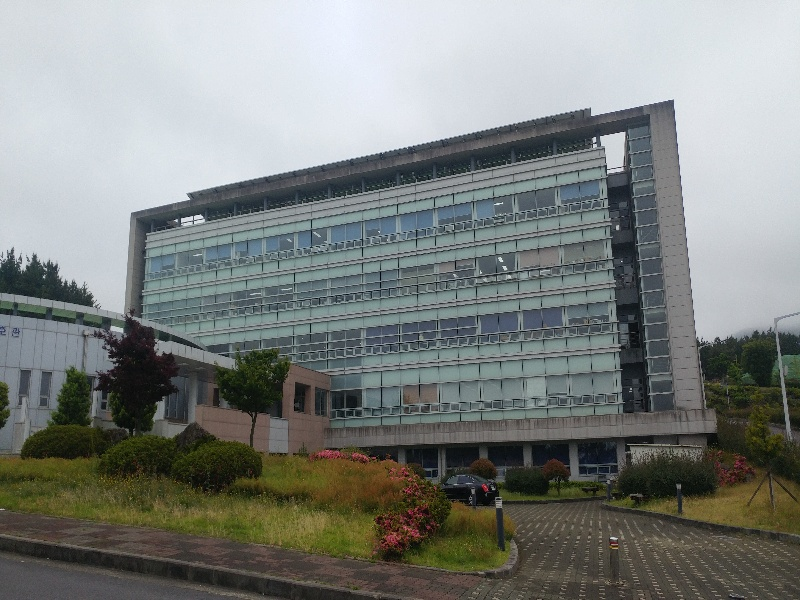College of Marine Science: (110, 133, 714, 435), (356, 139, 680, 453)
